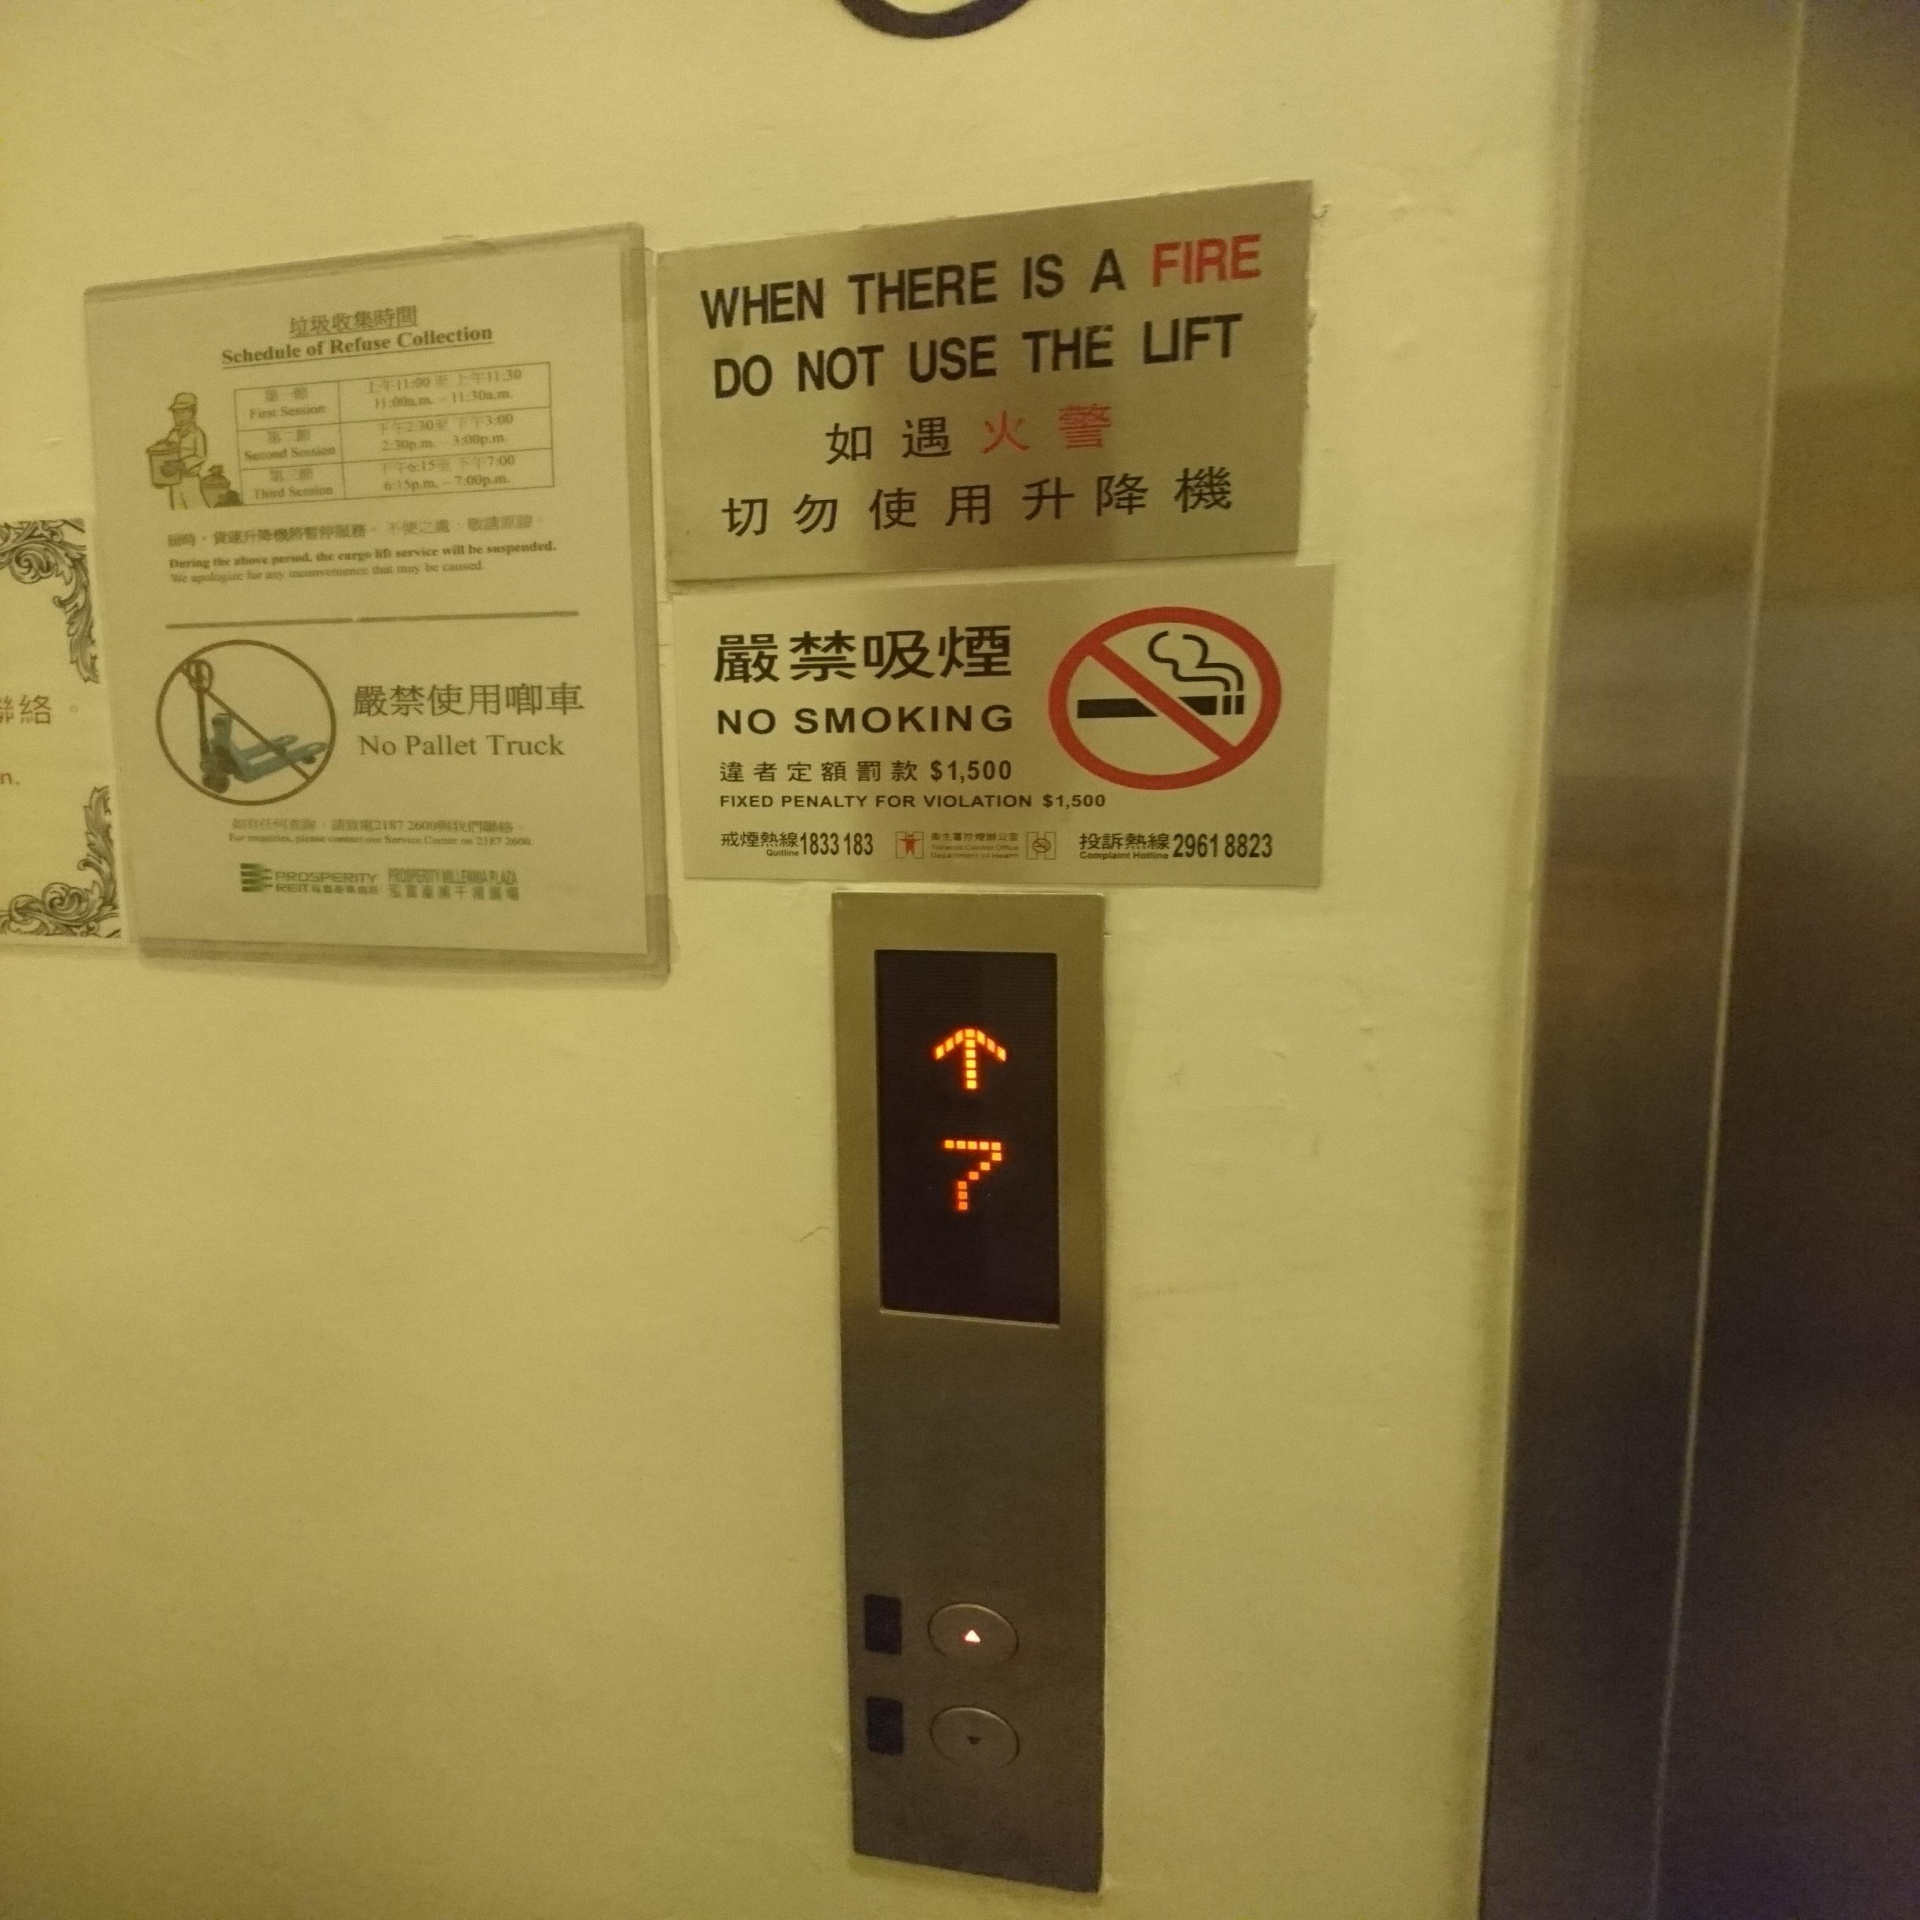down: (932, 1705, 1022, 1778)
led: (869, 944, 1067, 1329)
up: (925, 1600, 1020, 1674)
